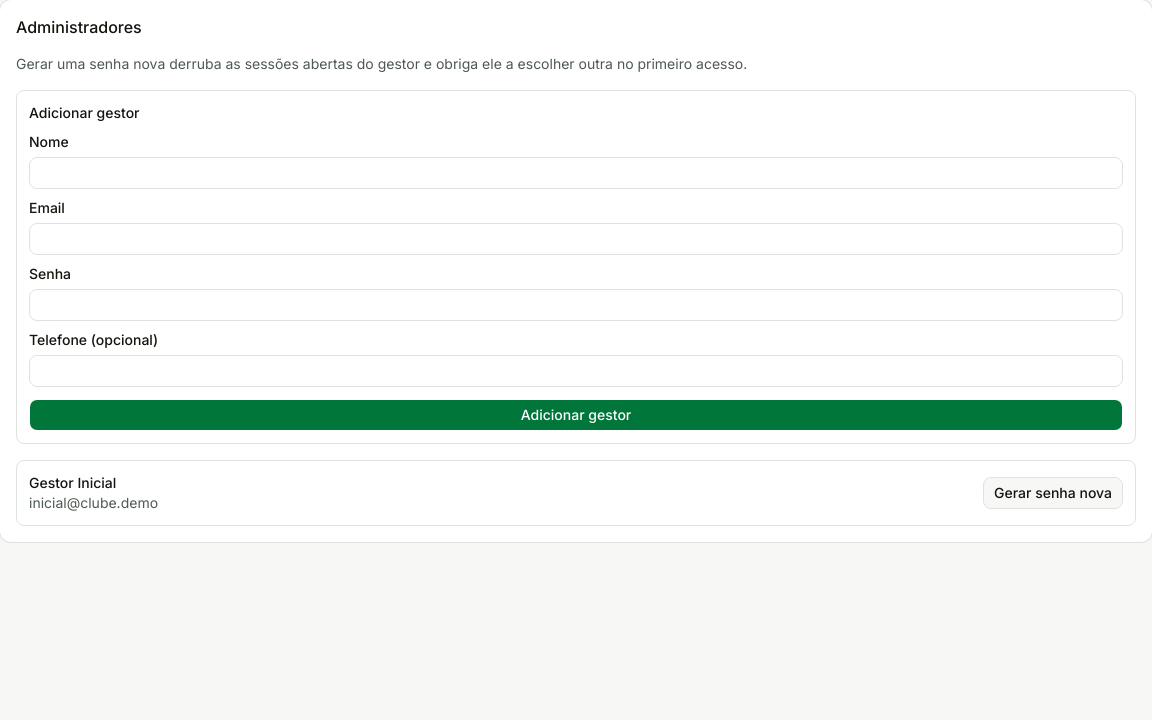
it: CompanyAdminsCard — adicionar gestor (SPEC-085) › AC-006: no erro mostra a mensagem do servidor e mantém o que foi digitado
Check: the text "Gestor Inicial" is shown, box [29, 474, 116, 491]
In the field labelled "Nome": coordinates (576, 173) [29, 157, 1123, 189], type "Segunda Gestora"
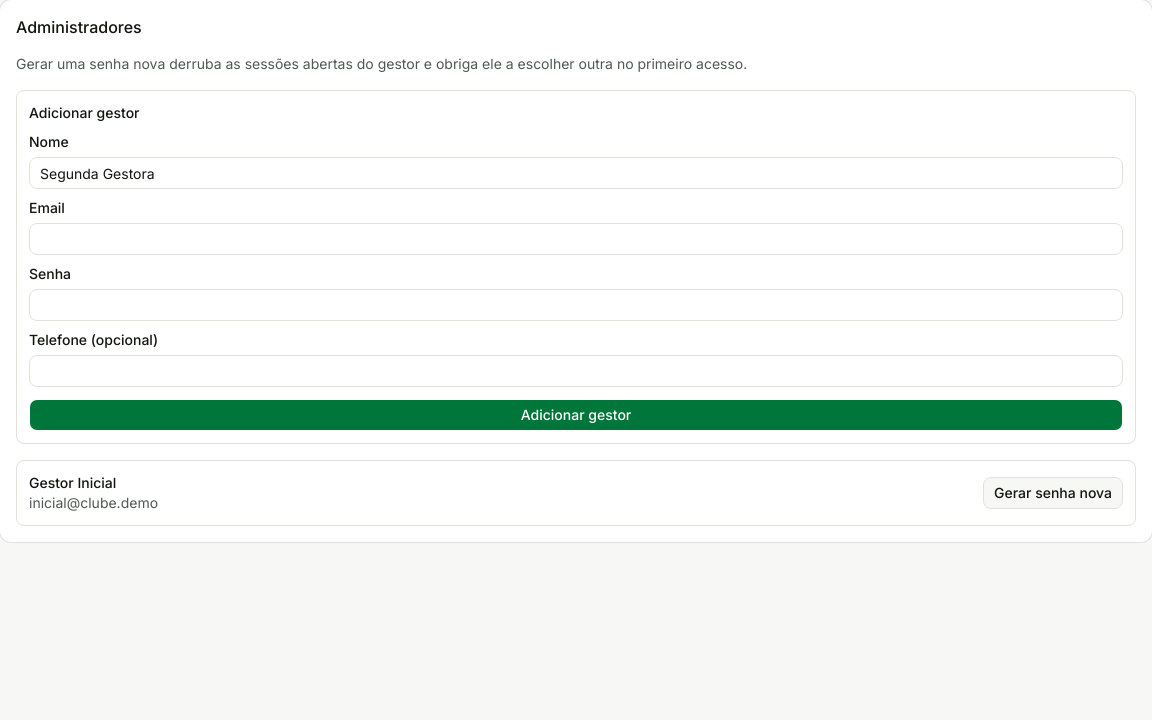
In the field labelled "Email": coordinates (576, 239) [29, 223, 1123, 255], type "segunda@clube.demo"
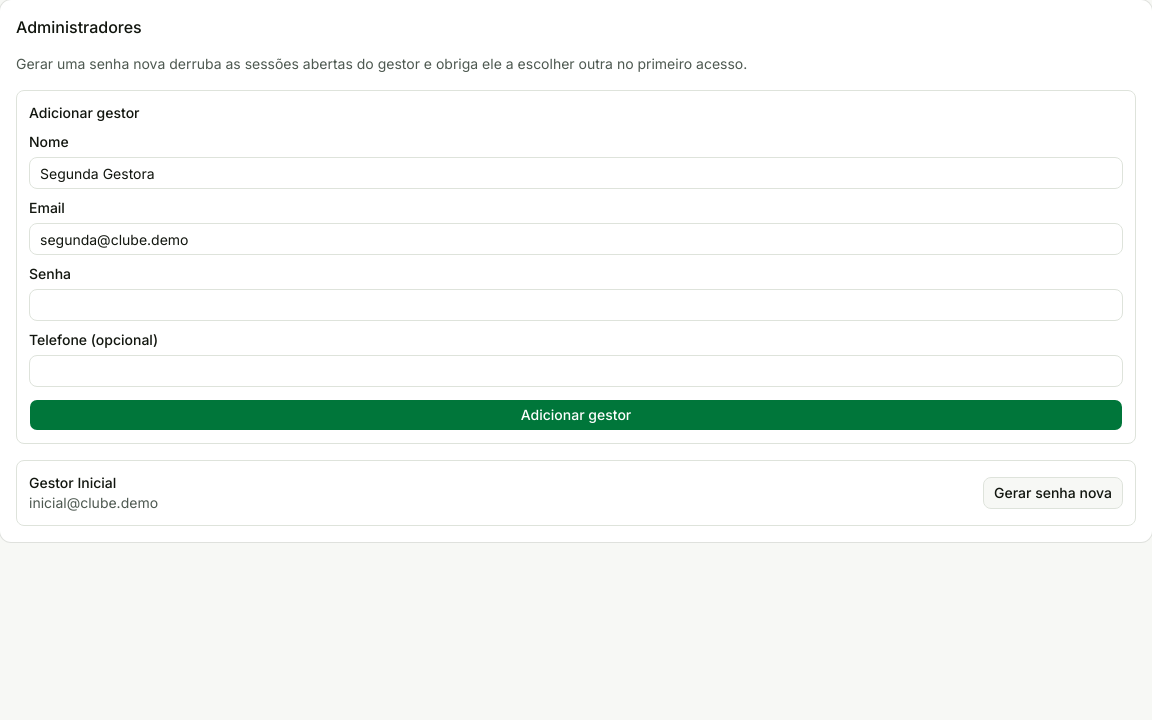
In the password field labelled "Senha": coordinates (576, 305) [29, 289, 1123, 321], type "senha-forte-1"
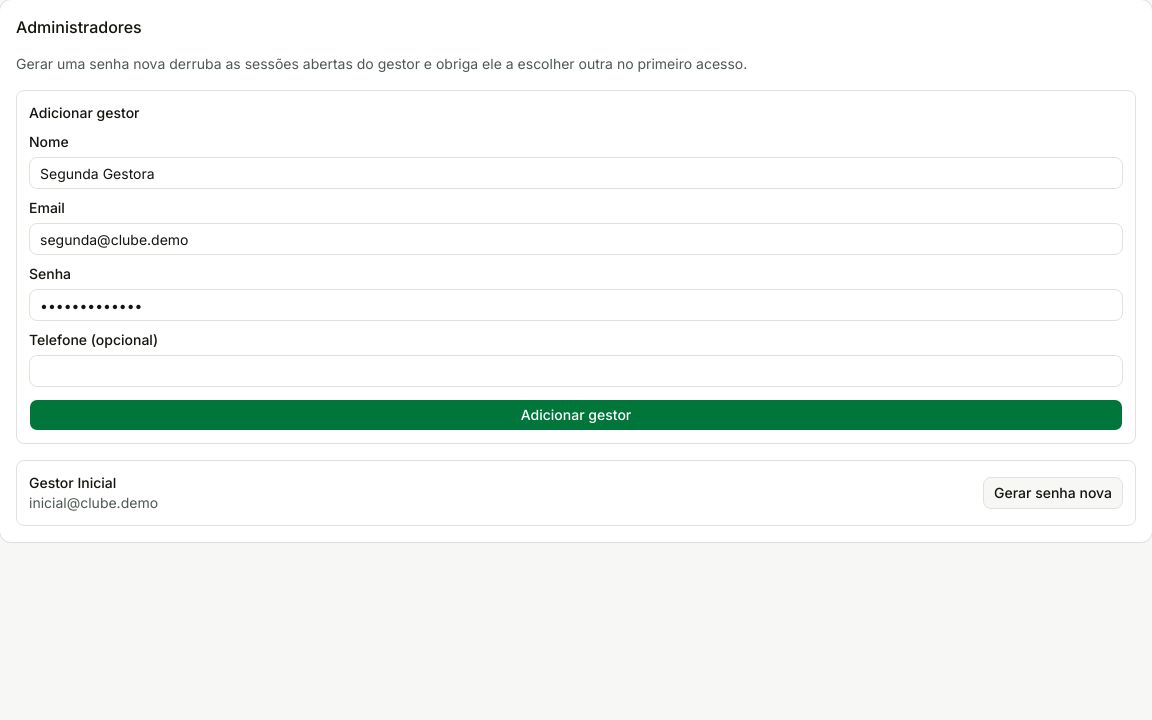
In the field labelled "Telefone (opcional)": coordinates (576, 371) [29, 355, 1123, 387], type "11999990000"
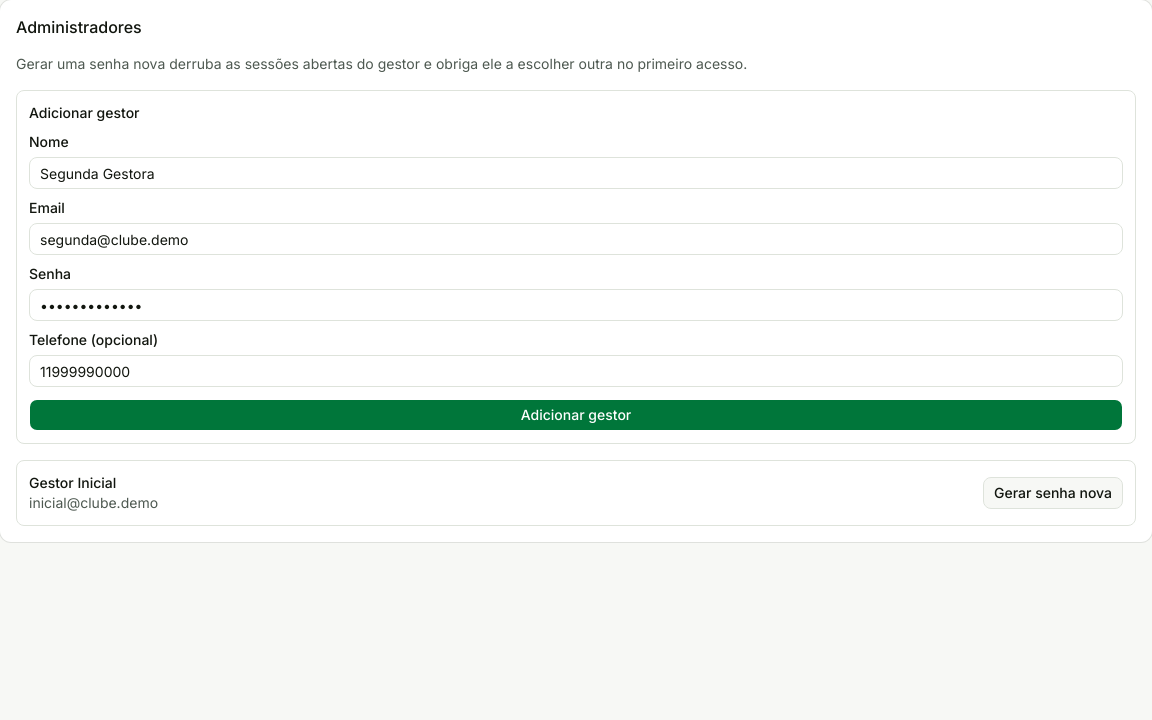
Click the button "Adicionar gestor": coordinates (576, 415) [29, 399, 1123, 431]
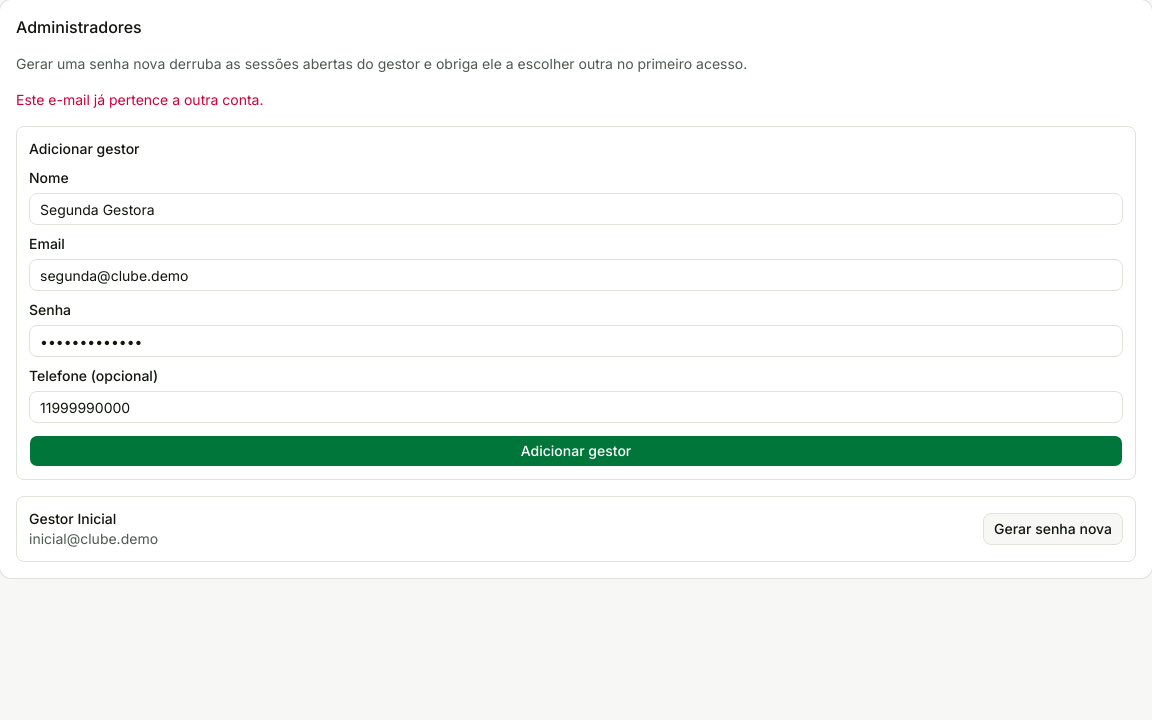
Check: the message reads "Este e-mail já pertence a outra conta.", box [16, 91, 264, 108]
